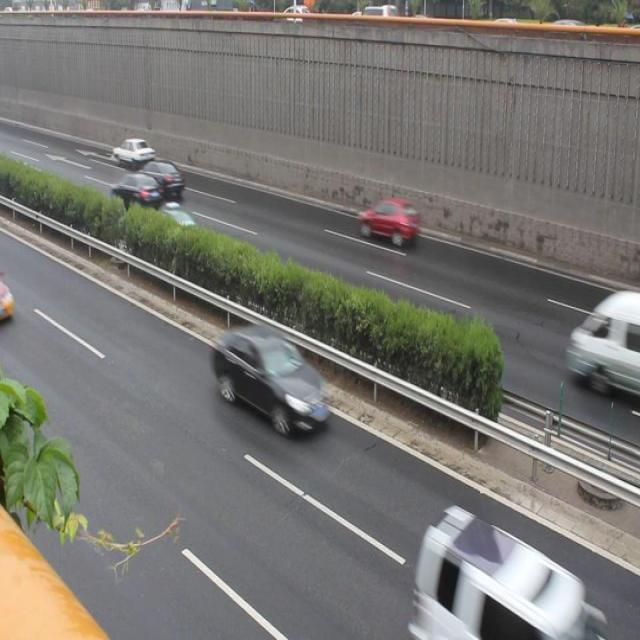car: (414, 500, 612, 640), (212, 322, 334, 440), (352, 192, 417, 254), (153, 200, 201, 253), (110, 170, 161, 214), (141, 156, 188, 200), (111, 135, 152, 170)
truck: (562, 302, 640, 410)
